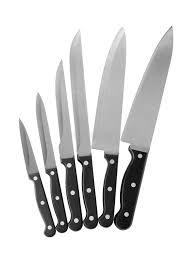Knife: (113, 25, 173, 230), (91, 26, 126, 227), (69, 28, 98, 228), (54, 58, 82, 231), (35, 91, 67, 232), (18, 117, 55, 236)
